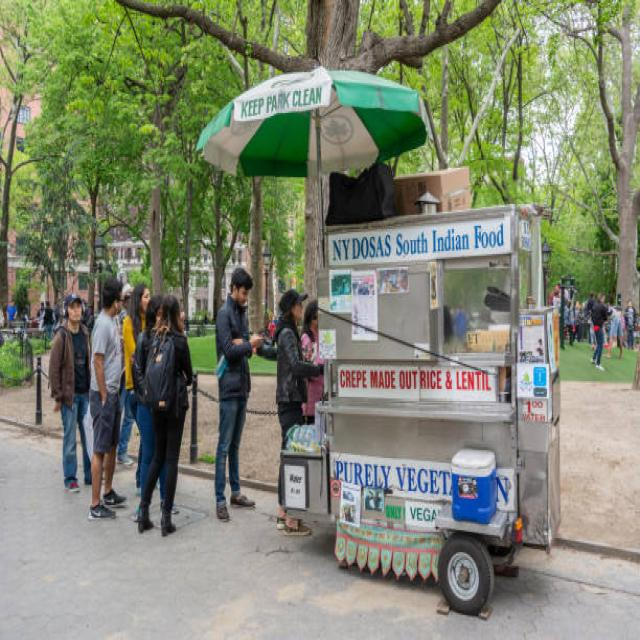Emperan: (187, 42, 576, 628)
